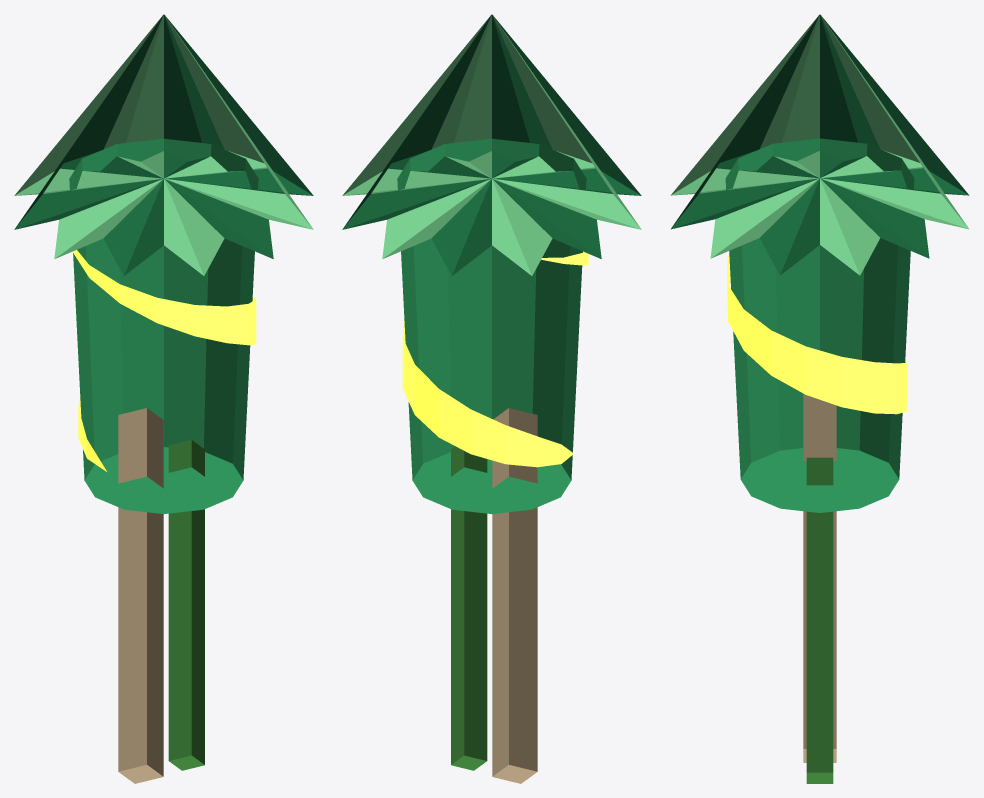
Rendered from rocket_jade.glb.
3 renders of one model, left to right at view 1: azimuth 30°, elevation 25°; view 2: azimuth 150°, elevation 25°; view 3: azimuth 270°, elevation 25°, orthographic.
Visible parts, largest first — view 1: body, fan_a, fan_b, stick, fuse, emblem; view 2: body, fan_a, fan_b, stick, fuse, emblem; view 3: body, fan_a, fan_b, emblem, fuse, stick.
Boxes of the visible parts, x1=… form: body: x1=69, y1=138, x2=258, y2=513; fan_a: x1=14, y1=14, x2=313, y2=275; fan_b: x1=14, y1=14, x2=313, y2=275; stick: x1=118, y1=408, x2=163, y2=783; fuse: x1=168, y1=440, x2=204, y2=770; emblem: x1=72, y1=250, x2=256, y2=471; body: x1=397, y1=138, x2=586, y2=513; fan_a: x1=342, y1=14, x2=641, y2=275; fan_b: x1=342, y1=14, x2=641, y2=275; stick: x1=492, y1=408, x2=537, y2=783; fuse: x1=451, y1=446, x2=487, y2=770; emblem: x1=402, y1=251, x2=588, y2=467; body: x1=725, y1=138, x2=914, y2=512; fan_a: x1=671, y1=14, x2=969, y2=275; fan_b: x1=670, y1=14, x2=968, y2=275; emblem: x1=727, y1=255, x2=907, y2=414; fuse: x1=806, y1=457, x2=833, y2=783; stick: x1=803, y1=393, x2=836, y2=762.
Bounding box in the file's own units: 0.396 × 1.1 × 0.396.
